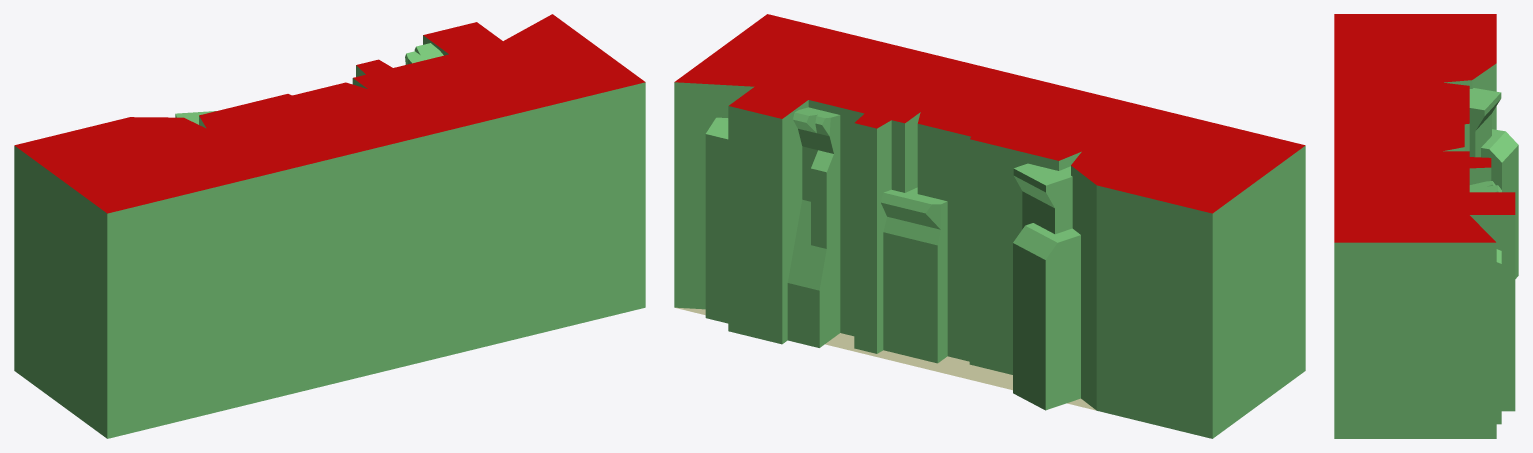
Rendered from x_oo_ground_55_wall1_rmstrd.fbx.
3 views of the same model, side by side, from view 1: azimuth 30°, elevation 25°; view 2: azimuth 150°, elevation 25°; view 3: azimuth 270°, elevation 25° (orthographic). The views are drawn at different scales.
Parts seen in each view (by area): view 1: x_oo_ground_55_wall1_rmstrd1; view 2: x_oo_ground_55_wall1_rmstrd1; view 3: x_oo_ground_55_wall1_rmstrd1.
Part boxes in pixels (x1=…): x_oo_ground_55_wall1_rmstrd1: x1=14, y1=14, x2=645, y2=438; x_oo_ground_55_wall1_rmstrd1: x1=674, y1=14, x2=1305, y2=438; x_oo_ground_55_wall1_rmstrd1: x1=1334, y1=14, x2=1518, y2=438.
Size of the model in its own units: 10 by 4 by 3.4.
